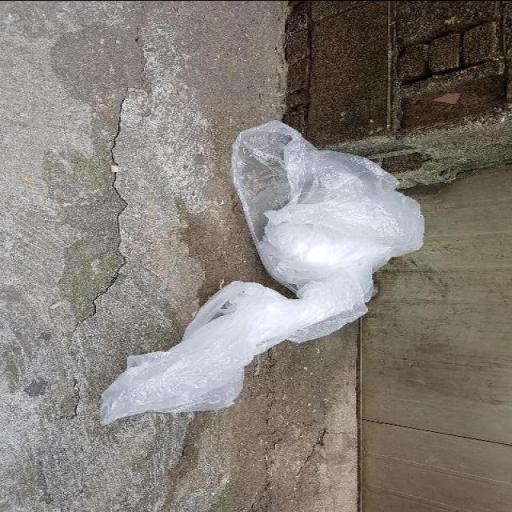plastic-bag: (94, 114, 423, 424)
